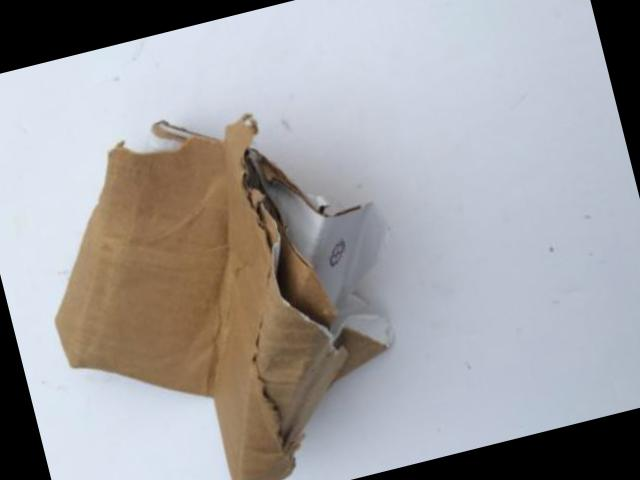cardboard paper: (52, 113, 388, 480)
